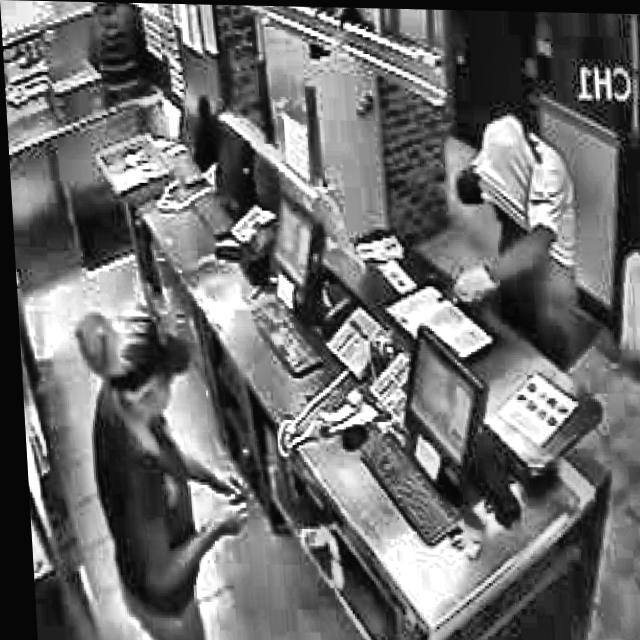robbery: (420, 100, 587, 349)
